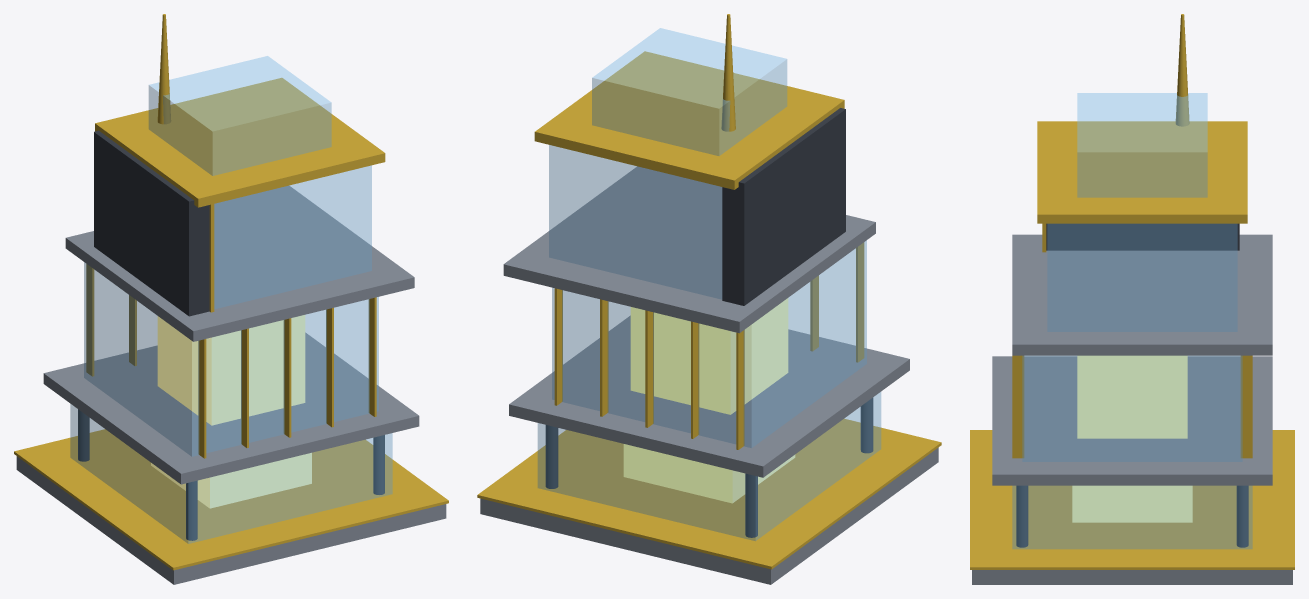
The model's file is building.glb.
3 renders of one model, left to right at view 1: azimuth 30°, elevation 25°; view 2: azimuth 150°, elevation 25°; view 3: azimuth 270°, elevation 25°, orthographic. The views are drawn at different scales.
Parts seen in each view (by area): view 1: Glass_MidTier, Gold_PodiumBand, Stone_UpperSlab, Stone_MidFloorSlab, Gold_CrownSlab, Glass_Lobby, Glass_UpperTier, Glass_Penthouse, Titanium_FeatureWall, Core_MidTier, Stone_Podium, Gold_Fin (×6) (+4 smaller); view 2: Glass_MidTier, Gold_PodiumBand, Stone_UpperSlab, Stone_MidFloorSlab, Gold_CrownSlab, Glass_Lobby, Glass_UpperTier, Glass_Penthouse, Titanium_FeatureWall, Core_MidTier, Stone_Podium, Gold_Fin (×7) (+3 smaller); view 3: Stone_UpperSlab, Stone_MidFloorSlab, Gold_PodiumBand, Glass_MidTier, Gold_CrownSlab, Glass_UpperTier, Glass_Lobby, Glass_Penthouse, Core_MidTier, Titanium_FeatureWall, Stone_Podium, Core_Lobby (+3 smaller).
Part boxes in pixels (left/top/right/bottom): Glass_MidTier: left=84, top=262, right=378, bottom=456; Gold_PodiumBand: left=14, top=429, right=448, bottom=570; Stone_UpperSlab: left=65, top=185, right=414, bottom=341; Stone_MidFloorSlab: left=43, top=332, right=419, bottom=484; Gold_CrownSlab: left=95, top=78, right=385, bottom=207; Glass_Lobby: left=70, top=404, right=392, bottom=543; Glass_UpperTier: left=214, top=165, right=371, bottom=308; Glass_Penthouse: left=149, top=56, right=331, bottom=175; Titanium_FeatureWall: left=94, top=130, right=209, bottom=316; Core_MidTier: left=157, top=315, right=305, bottom=425; Stone_Podium: left=16, top=456, right=446, bottom=584; Gold_Fin (×6): left=86, top=264, right=376, bottom=458; Glass_MidTier: left=552, top=240, right=866, bottom=447; Gold_PodiumBand: left=477, top=418, right=941, bottom=569; Stone_UpperSlab: left=503, top=166, right=875, bottom=333; Stone_MidFloorSlab: left=509, top=315, right=909, bottom=477; Gold_CrownSlab: left=534, top=51, right=844, bottom=189; Glass_Lobby: left=538, top=392, right=880, bottom=540; Glass_UpperTier: left=549, top=145, right=721, bottom=299; Glass_Penthouse: left=592, top=28, right=786, bottom=155; Titanium_FeatureWall: left=722, top=108, right=845, bottom=305; Core_MidTier: left=630, top=298, right=788, bottom=414; Stone_Podium: left=480, top=447, right=938, bottom=584; Gold_Fin (×7): left=554, top=242, right=864, bottom=449; Stone_UpperSlab: left=1012, top=234, right=1272, bottom=355; Stone_MidFloorSlab: left=992, top=356, right=1272, bottom=485; Gold_PodiumBand: left=970, top=430, right=1294, bottom=569; Glass_MidTier: left=1022, top=356, right=1242, bottom=461; Gold_CrownSlab: left=1037, top=121, right=1247, bottom=223; Glass_UpperTier: left=1047, top=224, right=1237, bottom=331; Glass_Lobby: left=1012, top=486, right=1252, bottom=548; Glass_Penthouse: left=1077, top=93, right=1207, bottom=197; Core_MidTier: left=1077, top=355, right=1187, bottom=438; Titanium_FeatureWall: left=1046, top=223, right=1239, bottom=250; Stone_Podium: left=972, top=570, right=1292, bottom=584; Core_Lobby: left=1072, top=485, right=1192, bottom=522.
Bounding box in the file's own units: 16.2 × 26.5 × 16.2.
